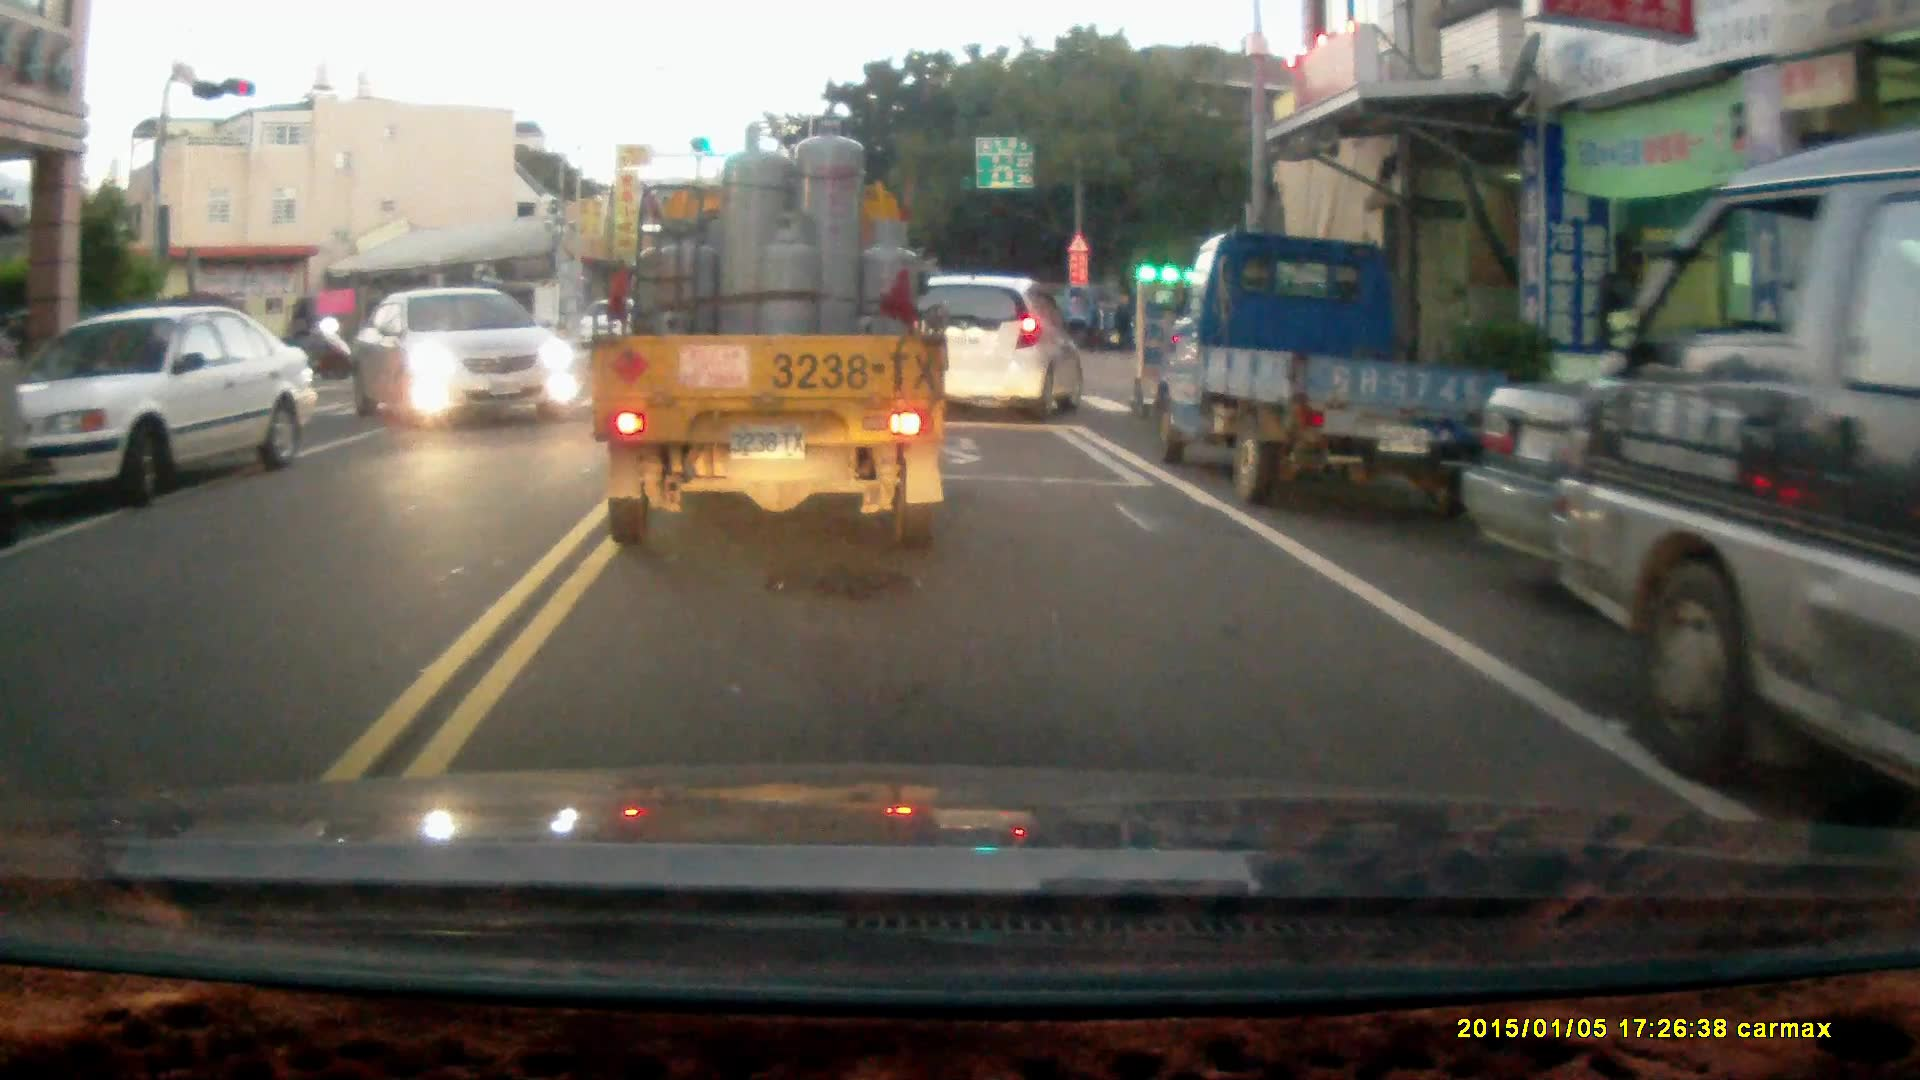rider: (269, 296, 353, 383)
vehicle: (1545, 127, 1920, 795), (588, 117, 951, 555), (1158, 232, 1506, 520), (19, 310, 320, 505), (350, 288, 583, 424), (890, 273, 1090, 418)
